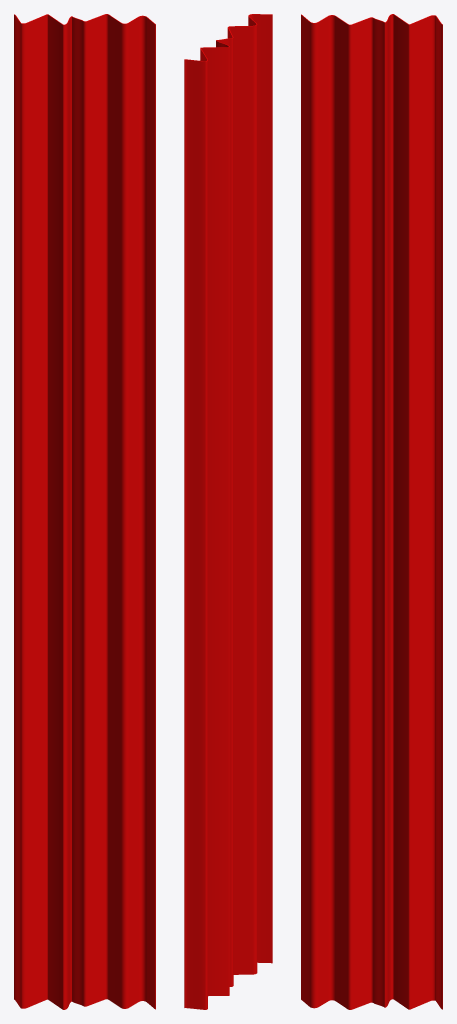
Rendered from Curtain_Small.fbx.
The picture shows the model from 3 angles, left to right: view 1: azimuth 90°, elevation 25°; view 2: azimuth 150°, elevation 25°; view 3: azimuth 270°, elevation 25°; orthographic projection. The views are drawn at different scales.
Visible parts, largest first — view 1: Curtain_Small; view 2: Curtain_Small; view 3: Curtain_Small.
Part boxes in pixels (x1,y1,x2,y2): Curtain_Small: (14, 14, 155, 1009); Curtain_Small: (184, 14, 272, 1009); Curtain_Small: (301, 14, 442, 1009).
Bounding box in the file's own units: 8.95 × 371 × 48.45.
